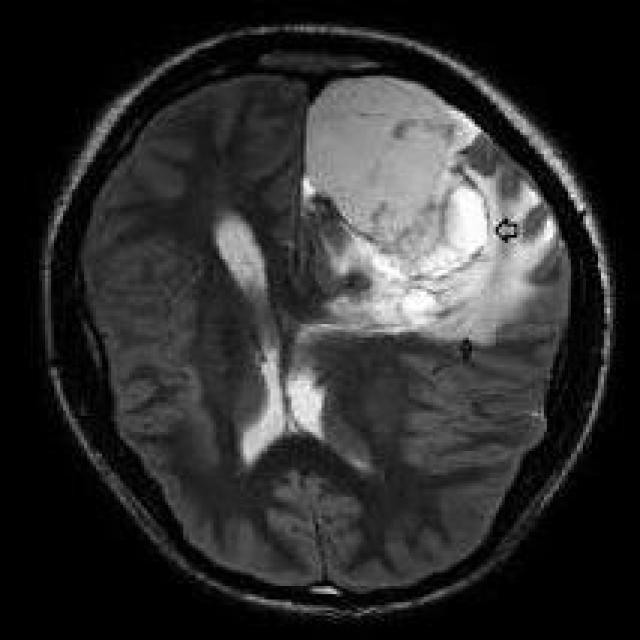brain tumor: (306, 73, 562, 348)
